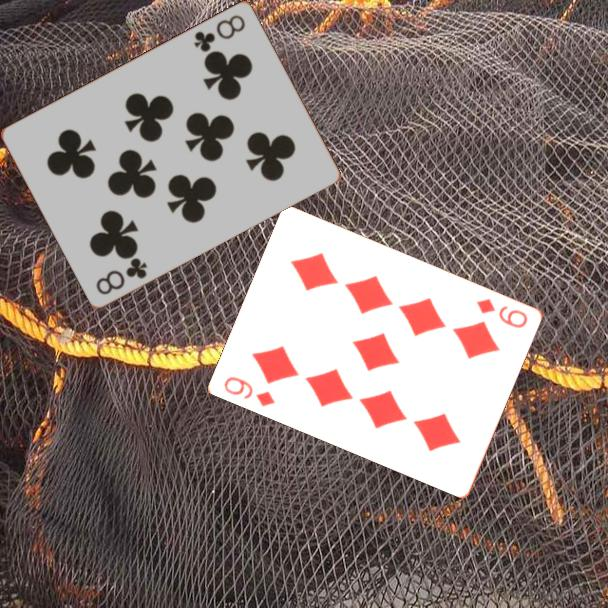c08: (190, 11, 248, 55), (92, 254, 150, 297)
d09: (473, 295, 531, 331), (221, 373, 279, 409)
